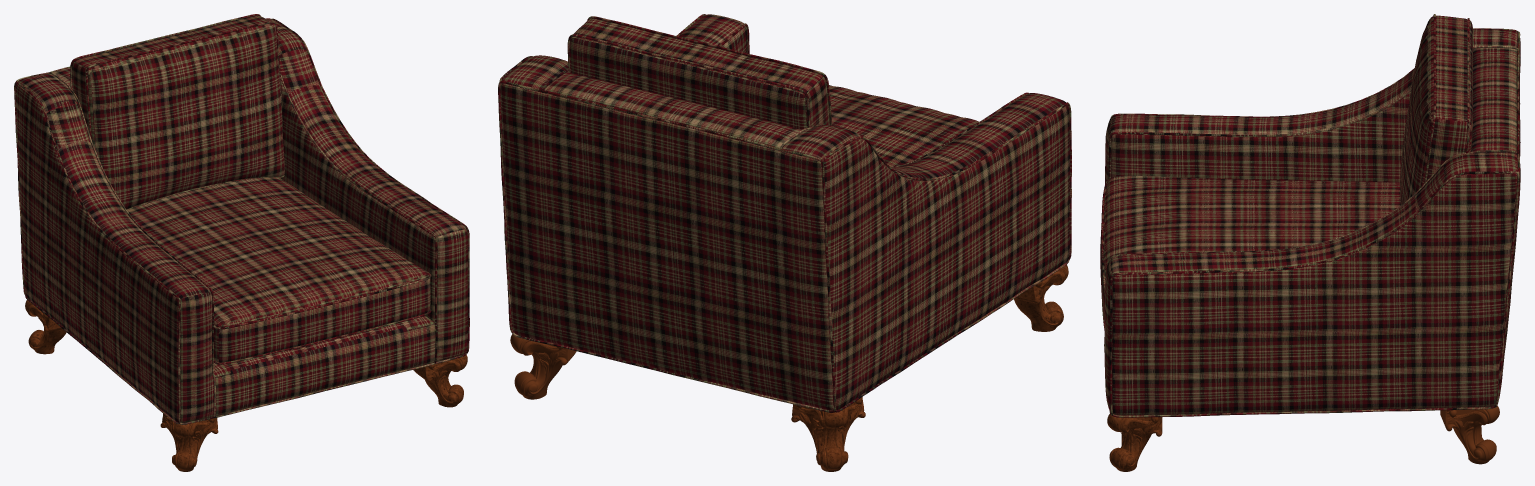
3 views of the same model, side by side, from view 1: azimuth 30°, elevation 25°; view 2: azimuth 150°, elevation 25°; view 3: azimuth 270°, elevation 25° (orthographic). The views are drawn at different scales.
Visible parts, largest first — view 1: Sloped_Armchair.002_3, Piping_2, Furniture leg 007.001_5, Furniture leg 007_4, Furniture leg 007.002_6; view 2: Sloped_Armchair.002_3, Piping_2, Furniture leg 007.002_6, Furniture leg 007.003_7, Furniture leg 007.001_5; view 3: Sloped_Armchair.002_3, Piping_2, Furniture leg 007.003_7, Furniture leg 007_4.
Part boxes in pixels (x1,y1,x2,y2): Sloped_Armchair.002_3: (15, 15, 467, 423); Piping_2: (14, 14, 469, 424); Furniture leg 007.001_5: (160, 413, 218, 471); Furniture leg 007_4: (413, 355, 467, 407); Furniture leg 007.002_6: (25, 300, 66, 354); Sloped_Armchair.002_3: (500, 14, 1070, 410); Piping_2: (498, 14, 1071, 412); Furniture leg 007.002_6: (791, 397, 865, 471); Furniture leg 007.003_7: (510, 334, 576, 399); Furniture leg 007.001_5: (1014, 265, 1068, 331); Sloped_Armchair.002_3: (1100, 15, 1520, 415); Piping_2: (1101, 14, 1520, 417); Furniture leg 007.003_7: (1440, 406, 1499, 464); Furniture leg 007_4: (1107, 414, 1162, 471).
Size of the model in its own units: 3.57 by 3.41 by 3.92.
2 materials, 2 textured.
